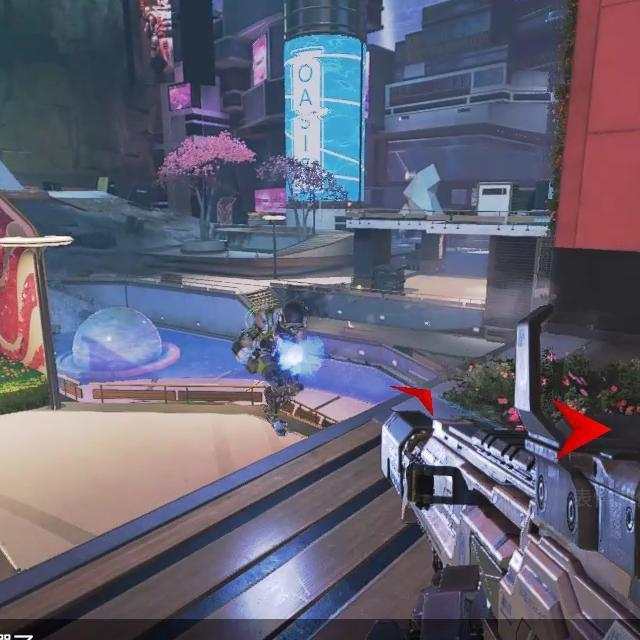avatar: (229, 298, 309, 439)
